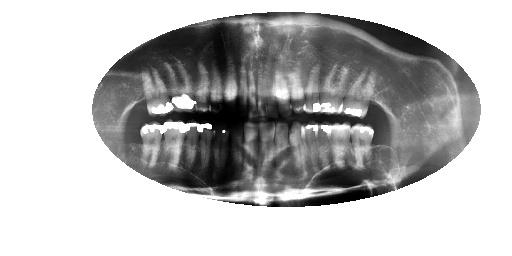i10decay: (267, 64, 278, 117)
i11decay: (278, 65, 293, 118)
i12healthy: (291, 62, 306, 119)
i13healthy: (305, 63, 323, 114)
i14healthy: (320, 62, 346, 112)
i15healthy: (338, 68, 379, 117)
i2healthy: (139, 65, 174, 116)
i3healthy: (170, 59, 194, 110)
i4healthy: (194, 61, 211, 104)
i5healthy: (210, 59, 224, 103)
i6healthy: (224, 56, 241, 104)
i7decay: (240, 58, 249, 108)
i8decay: (249, 62, 257, 118)
i9decay: (257, 64, 267, 118)
u10healthy: (275, 121, 289, 178)
u11healthy: (289, 120, 302, 178)
u12healthy: (304, 121, 320, 176)
u13healthy: (316, 122, 332, 176)
u14healthy: (329, 118, 351, 176)
u15healthy: (351, 119, 374, 176)
u2healthy: (139, 119, 164, 170)
u3healthy: (162, 118, 185, 178)
u4healthy: (185, 121, 199, 182)
u5healthy: (199, 122, 216, 181)
u6deay: (217, 122, 231, 182)
u7decay: (232, 122, 244, 182)
u8healthy: (244, 120, 258, 183)
u9healthy: (258, 121, 277, 183)
